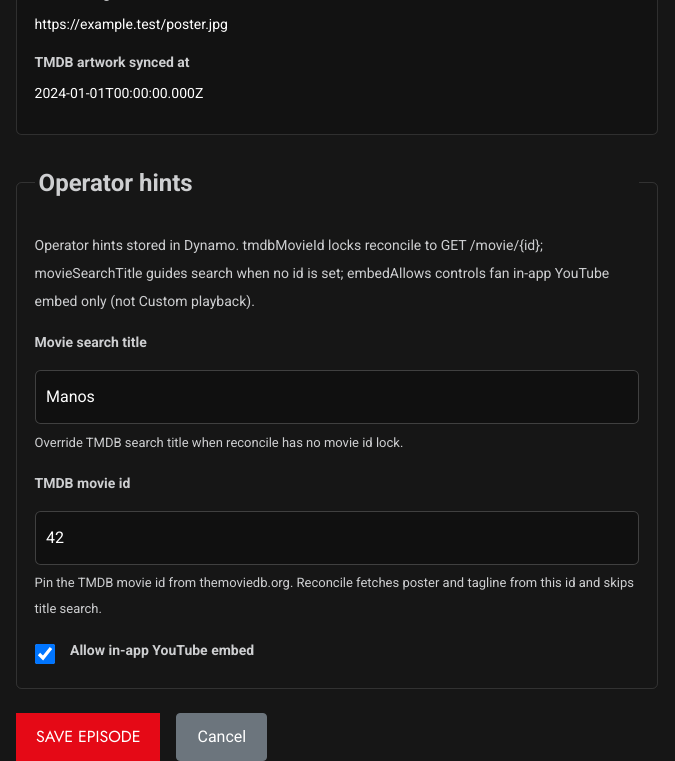
it: AdminCatalogForm › shows embed-disabled note when embedAllows is unchecked
The image size is (675, 761).
(page scrolled)
Click the checkbox with id "catalog-form-embed-allows" at (45, 654), box x1=35 y1=644 x2=55 y2=664
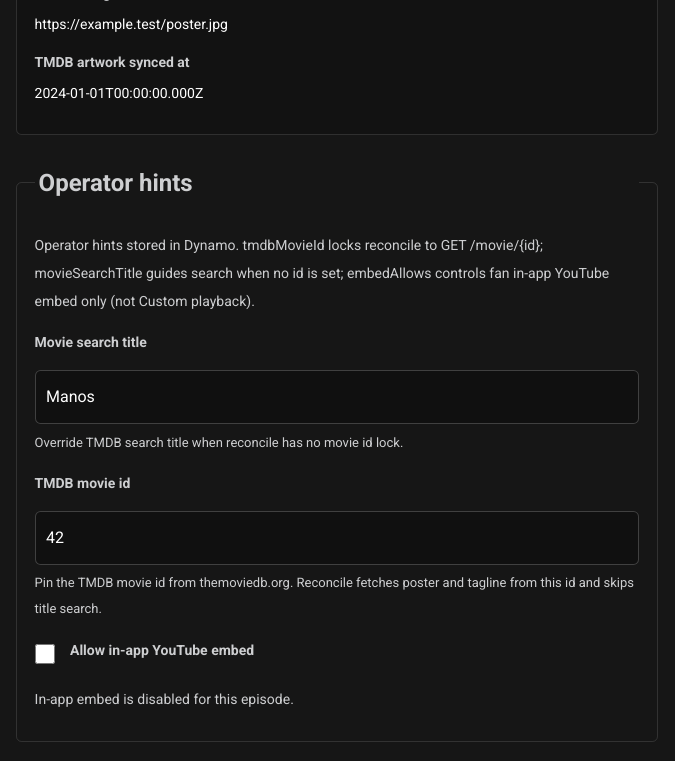
Expected: the text "In-app embed is disabled for this episode." is shown, x1=35 y1=692 x2=294 y2=708
